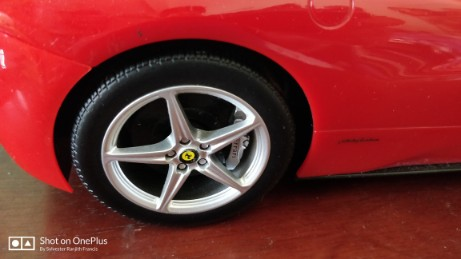aligned_wheel: (71, 52, 293, 226)
